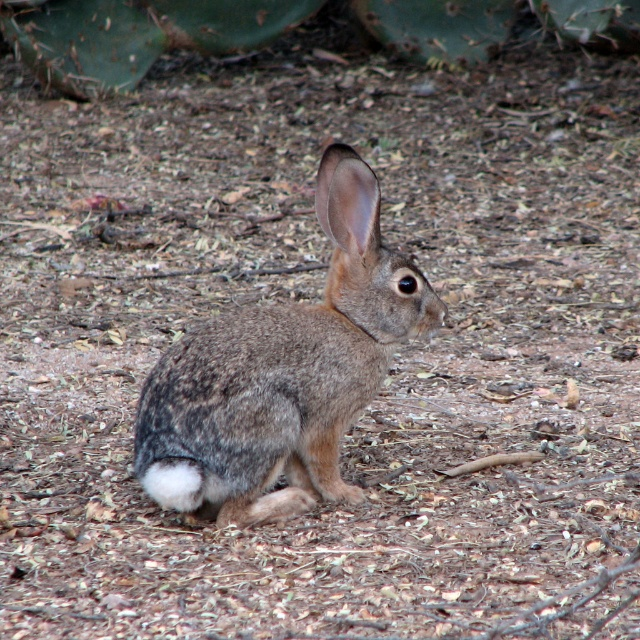Rabbit: (130, 141, 453, 539)
